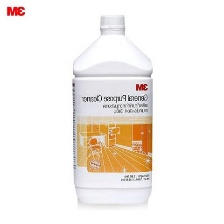cleaning_solution: (69, 11, 155, 207)
